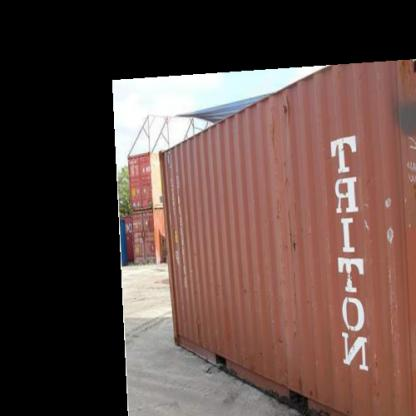Damage: (267, 95, 310, 252), (360, 188, 412, 247), (284, 368, 320, 400)
